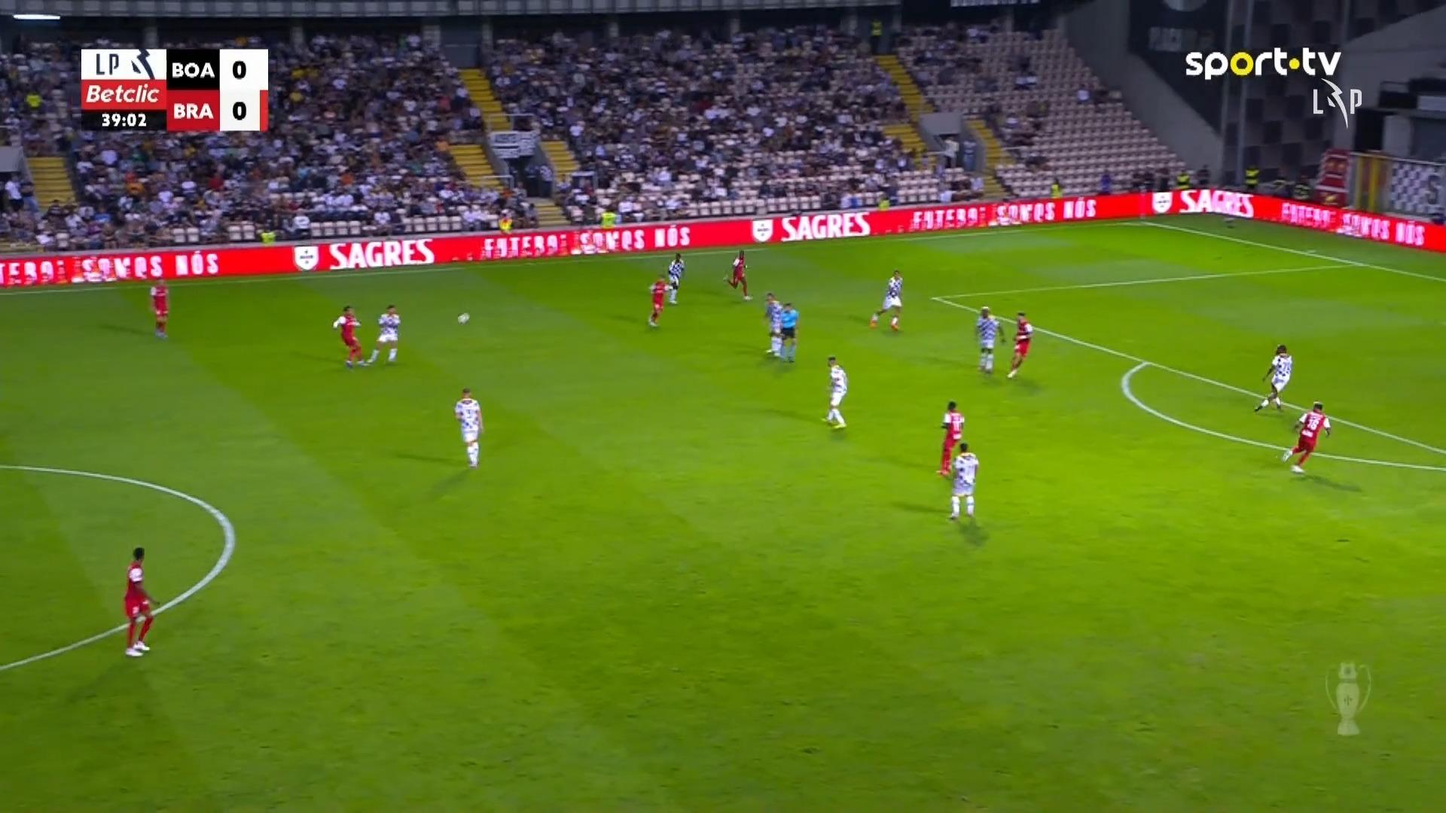ball: (457, 312, 469, 324)
player: (123, 546, 160, 656), (1281, 400, 1331, 473), (1252, 343, 1293, 412), (946, 441, 979, 520), (453, 386, 483, 468), (363, 303, 401, 365), (868, 269, 904, 331), (936, 400, 964, 476), (332, 305, 364, 368), (1005, 310, 1033, 378), (975, 305, 1003, 373), (822, 355, 847, 429), (724, 249, 752, 300), (148, 277, 169, 338), (763, 291, 783, 355), (646, 275, 667, 327), (666, 251, 685, 304)
referee: (776, 301, 799, 361)
